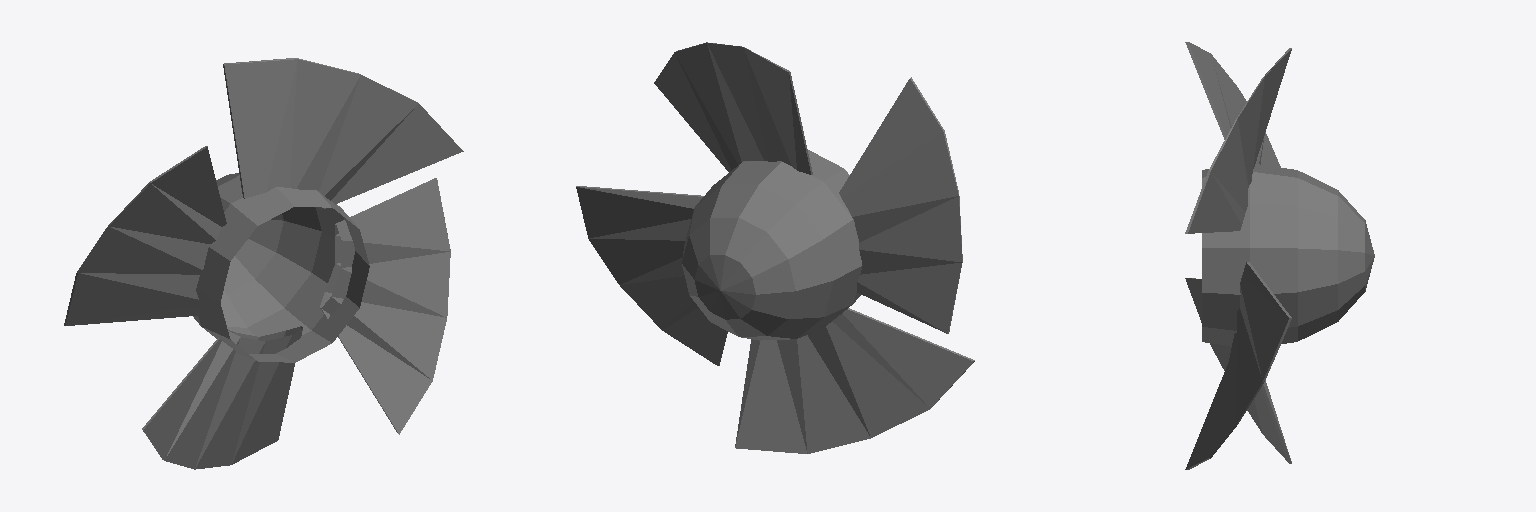
Rendered from prop_top_left2.obj.
3 views of the same model, side by side, from view 1: azimuth 30°, elevation 25°; view 2: azimuth 150°, elevation 25°; view 3: azimuth 270°, elevation 25° (orthographic).
Parts seen in each view (by area): view 1: rdmobj00.160, rdmobj00.208, rdmobj00.159, rdmobj00.031, rdmobj00.162; view 2: rdmobj00.208, rdmobj00.162, rdmobj00.031, rdmobj00.160, rdmobj00.159; view 3: rdmobj00.208, rdmobj00.159, rdmobj00.160, rdmobj00.031, rdmobj00.162.
Boxes of the visible parts, box(x1,y1,x2,y2) form: rdmobj00.160: box(223, 58, 463, 209); rdmobj00.208: box(193, 173, 369, 362); rdmobj00.159: box(320, 178, 450, 434); rdmobj00.031: box(64, 146, 226, 325); rdmobj00.162: box(142, 326, 302, 469); rdmobj00.208: box(682, 150, 862, 340); rdmobj00.162: box(735, 308, 974, 453); rdmobj00.031: box(839, 77, 962, 333); rdmobj00.160: box(654, 42, 812, 174); rdmobj00.159: box(576, 186, 727, 365); rdmobj00.208: box(1202, 164, 1374, 345); rdmobj00.159: box(1185, 262, 1291, 469); rdmobj00.160: box(1185, 48, 1291, 233); rdmobj00.031: box(1185, 42, 1280, 167); rdmobj00.162: box(1185, 278, 1291, 463).
Bounding box in the file's own units: 94.73 × 94.73 × 41.66.